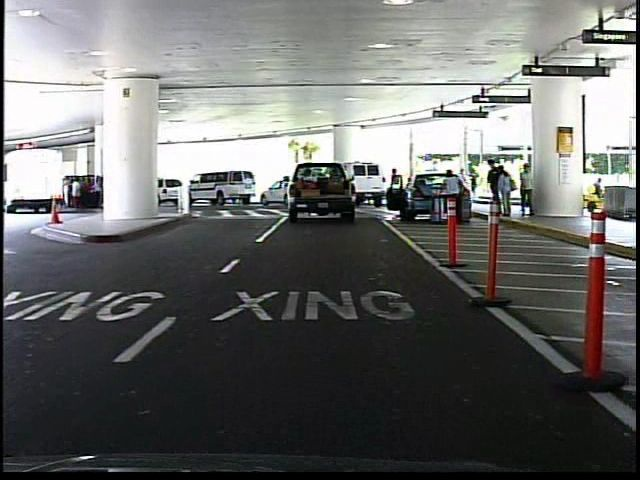person: (438, 163, 464, 225), (514, 159, 536, 218), (387, 166, 406, 212)
